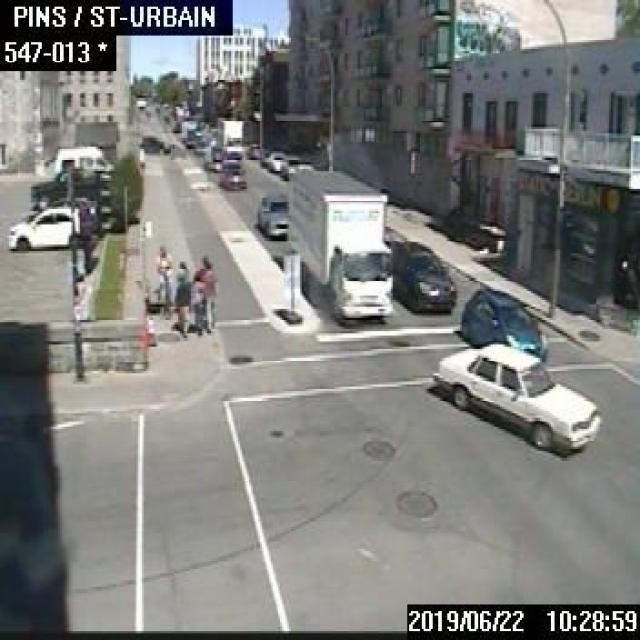cyclist: (152, 242, 172, 317)
pedestrian: (192, 254, 217, 332), (189, 273, 204, 335), (174, 274, 189, 336), (173, 259, 188, 311)
vehicle: (432, 341, 600, 454), (288, 168, 391, 322), (460, 286, 545, 360), (388, 238, 456, 312), (6, 207, 79, 251), (29, 169, 98, 206), (17, 195, 94, 219), (54, 144, 113, 171), (256, 191, 289, 237), (216, 114, 242, 157), (219, 169, 246, 191), (260, 149, 285, 170), (280, 155, 304, 176), (203, 148, 221, 171), (221, 158, 244, 174), (140, 134, 158, 154), (193, 141, 209, 156), (247, 142, 262, 157)
